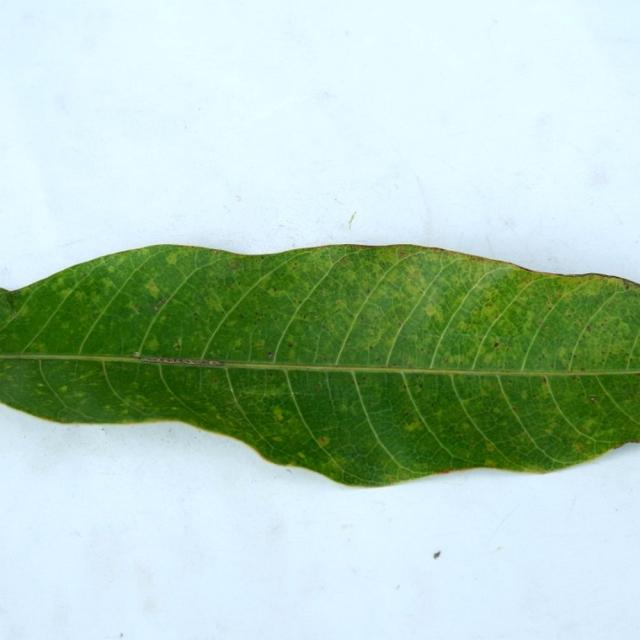Mango: (0, 244, 639, 485)
Powdery_Mildew: (475, 300, 510, 328), (357, 321, 389, 351), (399, 276, 425, 299), (144, 276, 165, 301), (204, 293, 226, 315), (144, 335, 160, 351), (271, 406, 286, 421), (334, 298, 350, 312), (404, 418, 421, 431), (468, 254, 491, 262), (556, 346, 569, 360), (424, 305, 438, 317), (165, 253, 179, 265), (60, 288, 73, 298), (317, 436, 329, 446), (338, 403, 350, 413), (173, 337, 182, 350), (254, 339, 266, 348), (573, 442, 584, 451), (397, 250, 409, 258), (36, 343, 46, 352), (230, 260, 240, 269), (106, 265, 117, 273), (486, 443, 495, 452), (60, 322, 70, 330), (623, 280, 631, 290), (485, 460, 496, 467), (339, 256, 348, 264), (273, 435, 283, 442), (132, 305, 140, 313), (59, 385, 68, 392), (297, 452, 306, 459), (215, 414, 224, 420), (193, 312, 200, 319), (314, 383, 321, 390), (541, 376, 547, 384), (256, 316, 264, 322), (573, 375, 581, 381), (365, 287, 371, 294), (493, 342, 500, 348), (589, 396, 596, 402), (402, 384, 409, 390), (271, 287, 277, 293), (212, 377, 218, 383), (404, 411, 410, 417), (531, 393, 537, 399), (37, 382, 44, 387), (486, 303, 493, 308), (239, 313, 246, 318), (556, 292, 562, 297), (586, 326, 591, 332), (397, 321, 402, 327), (287, 342, 293, 347), (212, 250, 218, 255), (361, 376, 367, 381), (570, 353, 576, 358), (628, 356, 633, 362), (171, 406, 178, 410), (368, 345, 373, 350), (547, 306, 552, 310), (512, 407, 517, 411)
